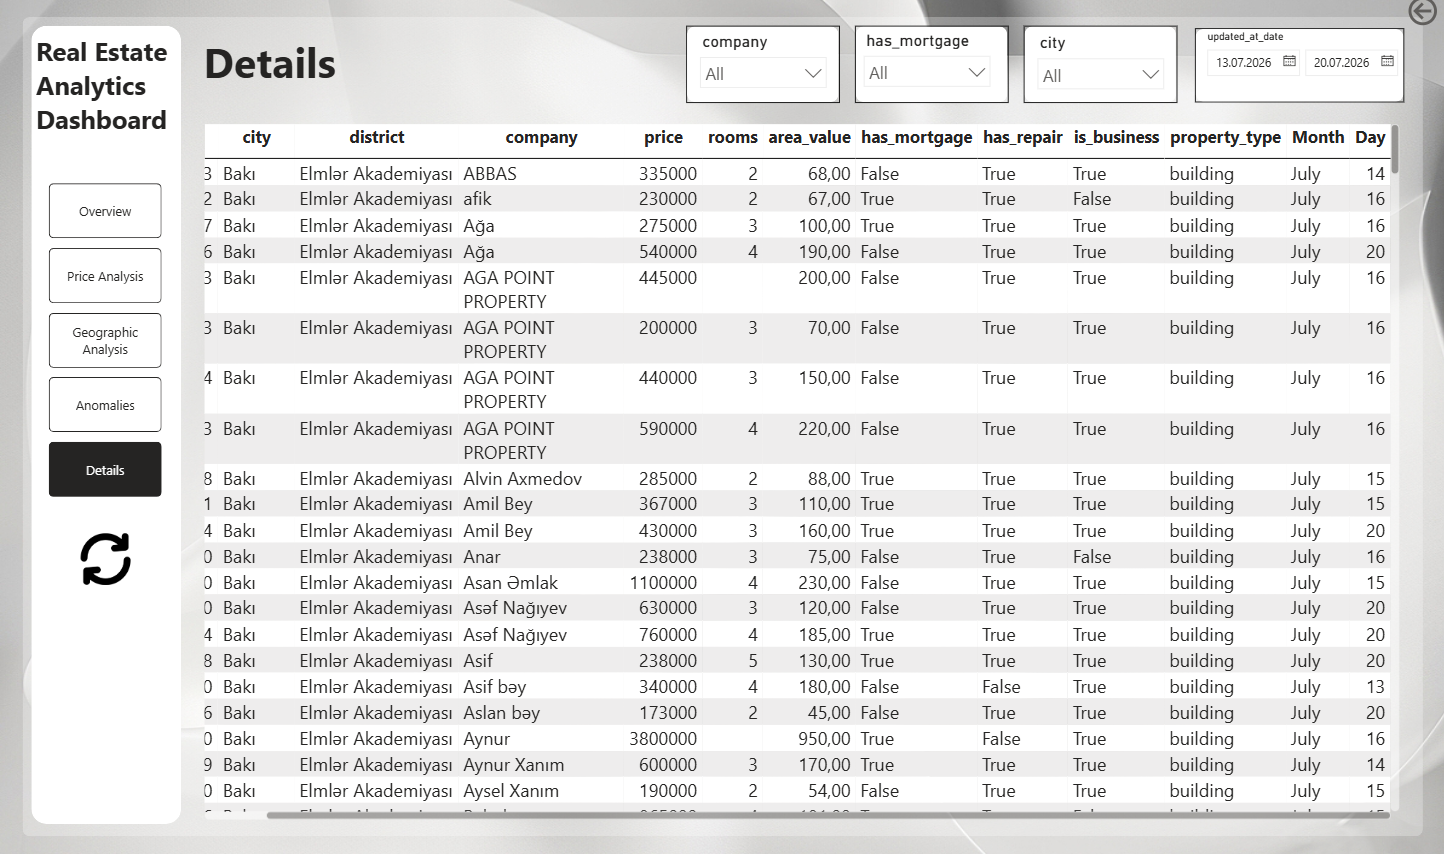

The page's visual inventory and layout, read from the dashboard file:
{"tool":"powerbi","page":{"name":"Details","canvas":[1500,900],"ordinal":4},"visuals":[{"type":"shape","box":[23.2,25.9,1451.2,848.9],"z":0},{"type":"shape","box":[32.7,35.4,155.3,827.1],"z":1000},{"type":"textbox","box":[205.4,38,223.7,68.9],"z":2000},{"type":"shape","box":[1061,35.2,159,80.2],"z":3000},{"type":"shape","box":[886.5,35.2,159,80.2],"z":4000},{"type":"shape","box":[710.6,35.2,159,80.2],"z":5000},{"type":"shape","box":[1238.2,37,217.1,77.2],"z":6000},{"type":"slicer","fields":{"Values":["listings.city"]},"box":[1065.2,38,152,77.4],"z":7000},{"type":"slicer","fields":{"Values":["listings.updated_at_date"]},"box":[1238.2,35.4,217.1,80.4],"z":8000},{"type":"slicer","fields":{"Values":["listings.has_mortgage"]},"box":[885.1,35.2,152,77.4],"z":9000},{"type":"slicer","fields":{"Values":["listings.company"]},"box":[714.8,36.6,152,77.4],"z":10000},{"type":"textbox","box":[32.4,38,173.1,128],"z":11000},{"type":"tableEx","fields":{"Values":["listings.id","listings.city","listings.district","listings.company","listings.price","listings.rooms","listings.area_value","listings.has_mortgage","listings.has_repair","listings.is_business","listings.property_type","listings.updated_at_date.Variation.Date Hierarchy.Month"]},"box":[205.4,132.1,1248.9,730.4],"z":12000},{"type":"actionButton","box":[1455,0,45,39.4],"z":13000},{"type":"pageNavigator","box":[50.4,197.6,117.2,329.8],"z":14000},{"type":"image","box":[73.4,560.9,71.7,53.8],"z":15000}]}

Visuals, with their boxes on the page's 1500x900 design canvas (x1, y1, x2, y2). These are canvas units, not pixel positions in the 1444x854 screenshot, which may show the page scaled, cropped or inside an application window:
shape: pyautogui.locateOnScreen(23, 26, 1474, 875)
shape: pyautogui.locateOnScreen(33, 35, 188, 862)
textbox: pyautogui.locateOnScreen(205, 38, 429, 107)
shape: pyautogui.locateOnScreen(1061, 35, 1220, 115)
shape: pyautogui.locateOnScreen(886, 35, 1046, 115)
shape: pyautogui.locateOnScreen(711, 35, 870, 115)
shape: pyautogui.locateOnScreen(1238, 37, 1455, 114)
slicer - listings.city: pyautogui.locateOnScreen(1065, 38, 1217, 115)
slicer - listings.updated_at_date: pyautogui.locateOnScreen(1238, 35, 1455, 116)
slicer - listings.has_mortgage: pyautogui.locateOnScreen(885, 35, 1037, 113)
slicer - listings.company: pyautogui.locateOnScreen(715, 37, 867, 114)
textbox: pyautogui.locateOnScreen(32, 38, 206, 166)
tableEx - listings.id x listings.city: pyautogui.locateOnScreen(205, 132, 1454, 862)
actionButton: pyautogui.locateOnScreen(1455, 0, 1500, 39)
pageNavigator: pyautogui.locateOnScreen(50, 198, 168, 527)
image: pyautogui.locateOnScreen(73, 561, 145, 615)
